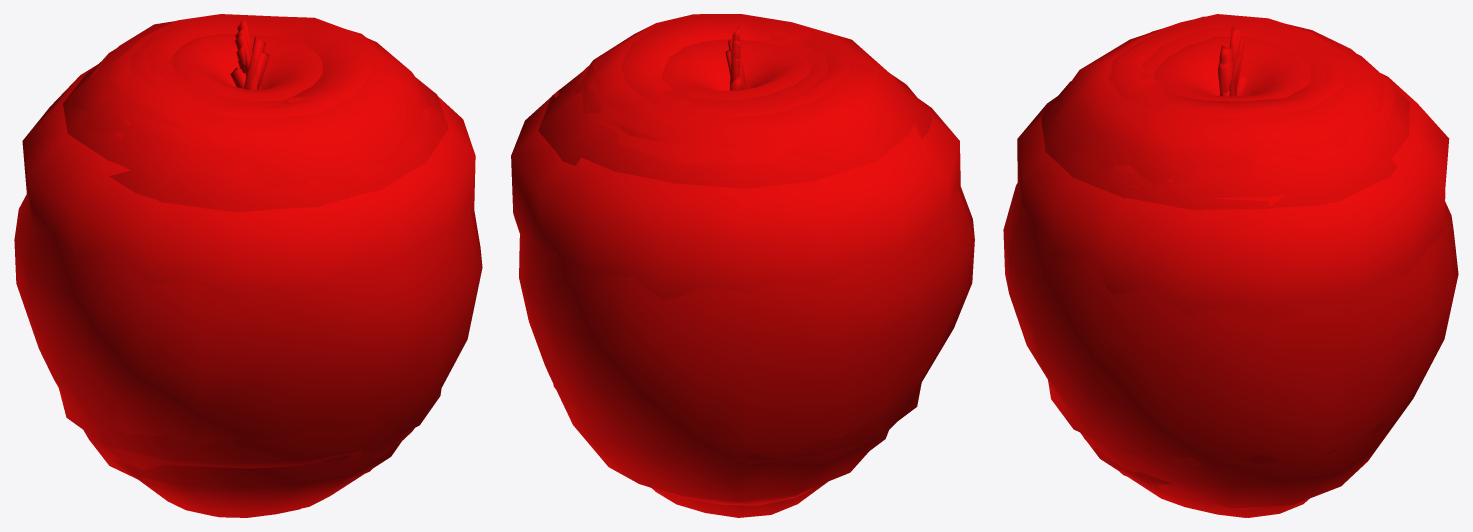
The model's file is apples_mesh_grp.fbx.
3 views of the same model, side by side, from view 1: azimuth 30°, elevation 25°; view 2: azimuth 150°, elevation 25°; view 3: azimuth 270°, elevation 25° (orthographic). The views are drawn at different scales.
Visible parts, largest first — view 1: apple_b15, apple_a15, apple_b10, apple_a6, apple_a4, apple_b1, apple_a8; view 2: apple_b15, apple_a15, apple_a6, apple_b10, apple_b1, apple_a8, apple_a3, apple_a4; view 3: apple_b15, apple_a15, apple_a6, apple_b10, apple_b1, apple_a8, apple_a4, apple_a3, apple_b3.
Boxes of the visible parts, box(x1,y1,x2,y2) form: apple_b15: box(14, 194, 482, 486); apple_a15: box(22, 65, 475, 468); apple_b10: box(70, 14, 431, 198); apple_a6: box(62, 20, 448, 212); apple_a4: box(112, 60, 401, 516); apple_b1: box(131, 15, 372, 118); apple_a8: box(171, 21, 322, 101); apple_b15: box(519, 184, 974, 505); apple_a15: box(511, 75, 960, 464); apple_a6: box(538, 26, 932, 188); apple_b10: box(574, 14, 907, 167); apple_b1: box(621, 15, 851, 118); apple_a8: box(662, 26, 812, 100); apple_a3: box(579, 47, 893, 164); apple_a4: box(652, 66, 888, 517); apple_b15: box(1003, 180, 1458, 509); apple_a15: box(1017, 73, 1449, 466); apple_a6: box(1041, 16, 1409, 210); apple_b10: box(1043, 14, 1383, 183); apple_b1: box(1108, 16, 1347, 118); apple_a8: box(1154, 28, 1310, 101); apple_a4: box(1080, 67, 1309, 517); apple_a3: box(1229, 45, 1396, 164); apple_b3: box(1084, 61, 1232, 182).
Bounding box in the file's own units: 12.94 × 14.53 × 12.88.
